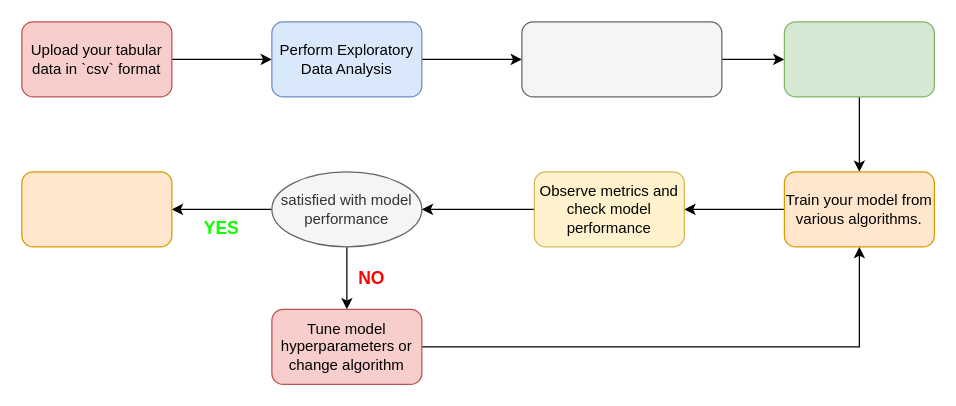
Image size: 956x406. Some labels were removed from this diagram. The centre of each missing label's shape, as x and y in pixels:
"Choose problem Algorithm as per your problem type, Classification or regression." belongs at pixel 621 59.
"Click on 'Preprocessing' button if required." belongs at pixel 858 59.
"Download Your model for later use." belongs at pixel 96 209.
